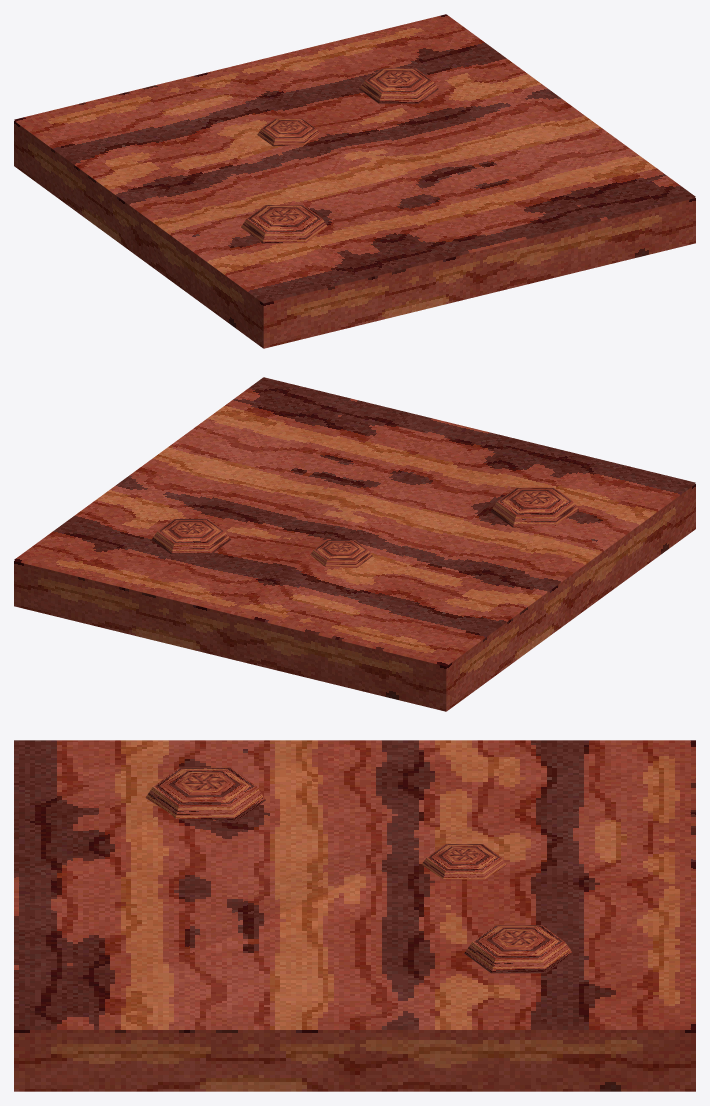
File: terreno_caverna_rochas_vermelhas.glb
The picture shows the model from 3 angles, top to bottom: view 1: azimuth 30°, elevation 25°; view 2: azimuth 150°, elevation 25°; view 3: azimuth 270°, elevation 25°; orthographic projection. The views are drawn at different scales.
Parts seen in each view (by area): view 1: terreno_caverna_rochas_vermelhas; view 2: terreno_caverna_rochas_vermelhas; view 3: terreno_caverna_rochas_vermelhas.
Boxes of the visible parts, x1,y1,x2,y2 form: terreno_caverna_rochas_vermelhas: (14, 14, 695, 348); terreno_caverna_rochas_vermelhas: (14, 377, 695, 711); terreno_caverna_rochas_vermelhas: (14, 740, 695, 1091).
Size of the model in its own units: 2 by 0.265 by 2.
Materials: 1 (1 with a texture image).
